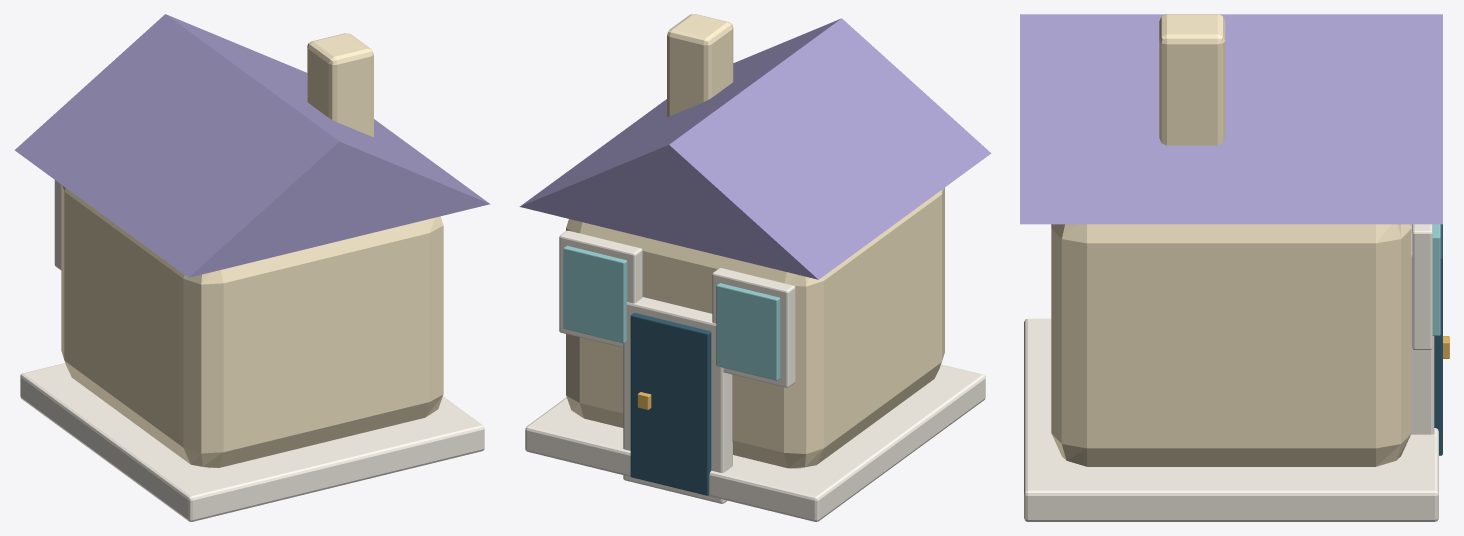
Rendered from house.glb.
3 renders of one model, left to right at view 1: azimuth 30°, elevation 25°; view 2: azimuth 150°, elevation 25°; view 3: azimuth 270°, elevation 25°, orthographic. The views are drawn at different scales.
Visible parts, largest first — view 1: house; view 2: house; view 3: house.
Part boxes in pixels (left/top/right/bottom): house: left=14, top=14, right=490, bottom=521; house: left=519, top=14, right=991, bottom=521; house: left=1020, top=14, right=1449, bottom=521.
Size of the model in its own units: 2.7 by 3.26 by 2.75.
